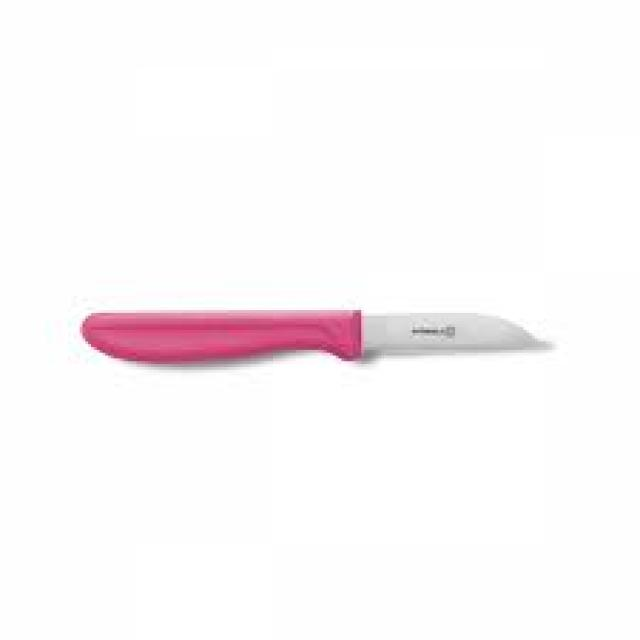knife: (83, 305, 556, 372)
